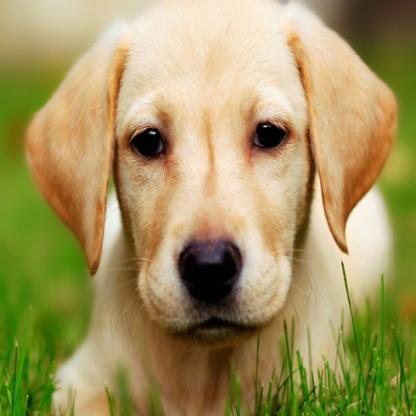dog: (26, 6, 395, 416)
